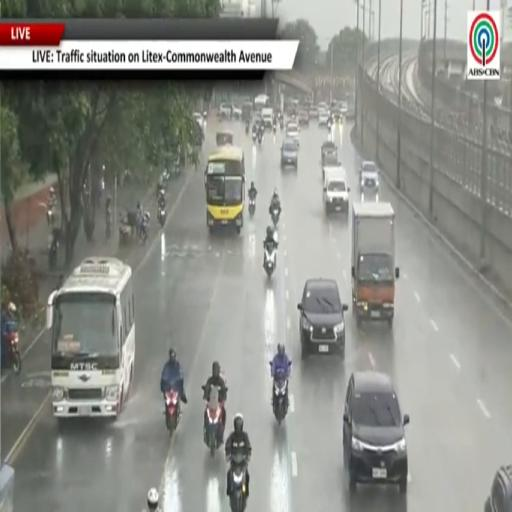bus: (47, 256, 135, 419), (205, 146, 245, 233)
car: (343, 371, 409, 493), (297, 278, 348, 358), (323, 166, 350, 215), (484, 466, 511, 511), (359, 162, 378, 193), (280, 139, 298, 169), (321, 141, 338, 166), (286, 121, 299, 146), (331, 103, 342, 121), (218, 103, 231, 118), (318, 108, 329, 125), (298, 109, 309, 125), (193, 112, 203, 129), (232, 105, 242, 120), (338, 102, 348, 116), (346, 103, 354, 119), (309, 105, 318, 119)
motorcycle: (204, 387, 223, 456), (230, 454, 247, 511), (2, 329, 21, 374), (273, 371, 288, 425), (165, 388, 180, 435), (48, 229, 59, 270), (264, 243, 276, 278), (140, 216, 148, 245), (158, 205, 166, 228), (271, 208, 279, 228), (106, 210, 111, 239), (47, 207, 53, 227), (249, 199, 255, 217), (258, 132, 263, 144), (272, 122, 277, 133), (246, 121, 250, 134), (327, 120, 332, 130), (252, 132, 257, 142), (280, 118, 283, 130)
truck: (351, 202, 399, 327)
